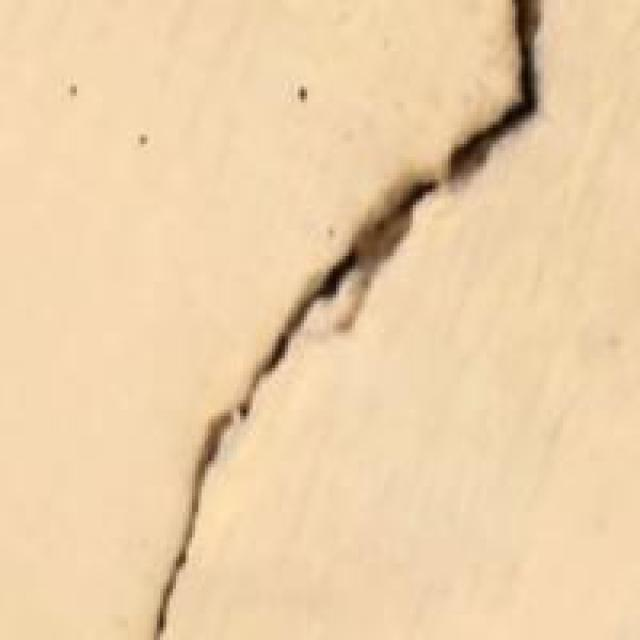Crack: (138, 0, 595, 637)
